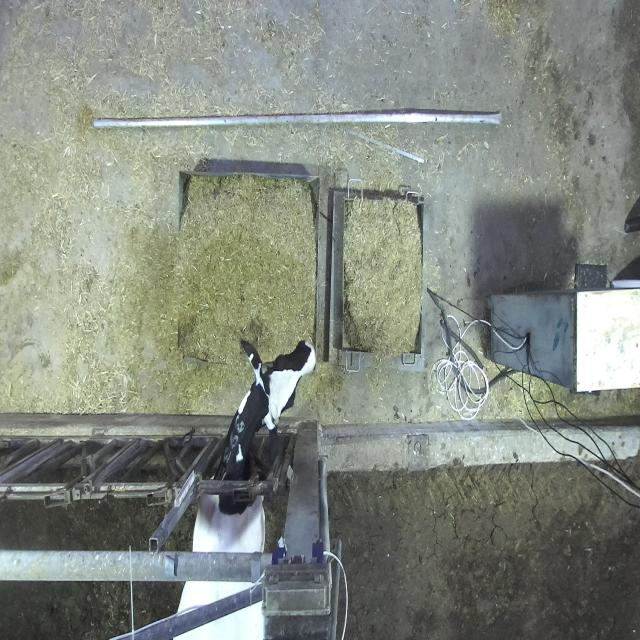cow: (239, 338, 316, 434)
